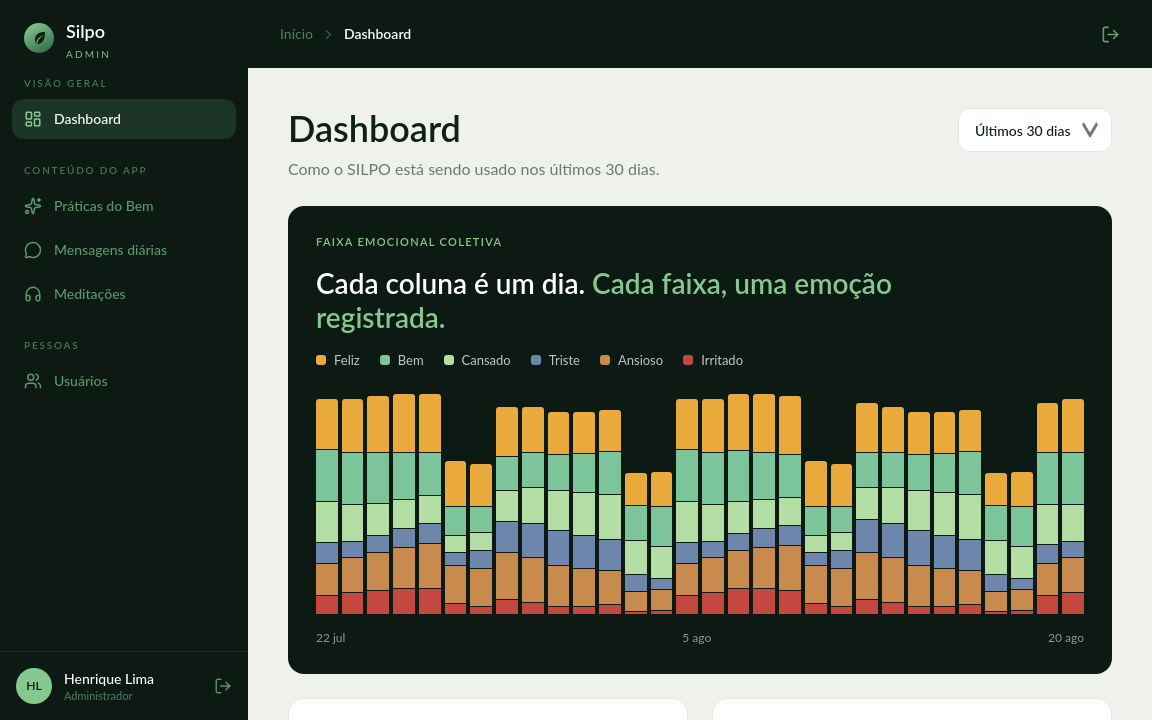
Test: admin authentication › logs out and returns to the login
Click the button named "Sair" next to "Henrique Lima".
click(223, 686)  # box x1=214 y1=677 x2=232 y2=695
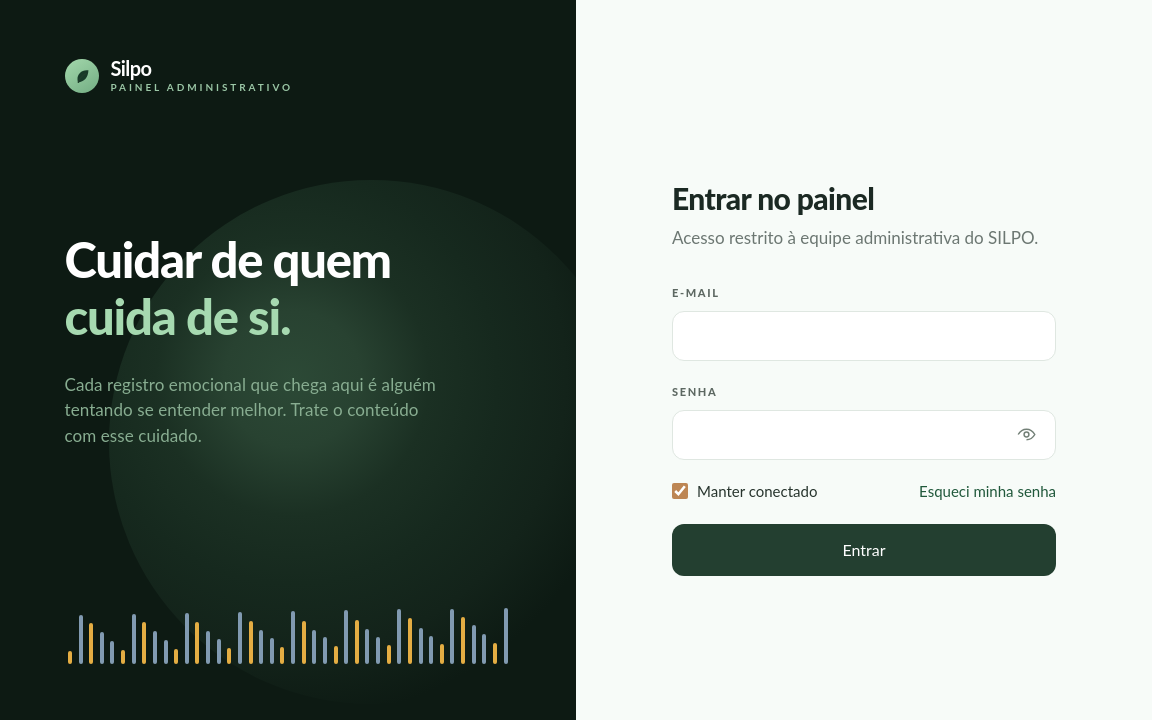
Expected: the button "Entrar" is shown, x1=672 y1=524 x2=1056 y2=576
